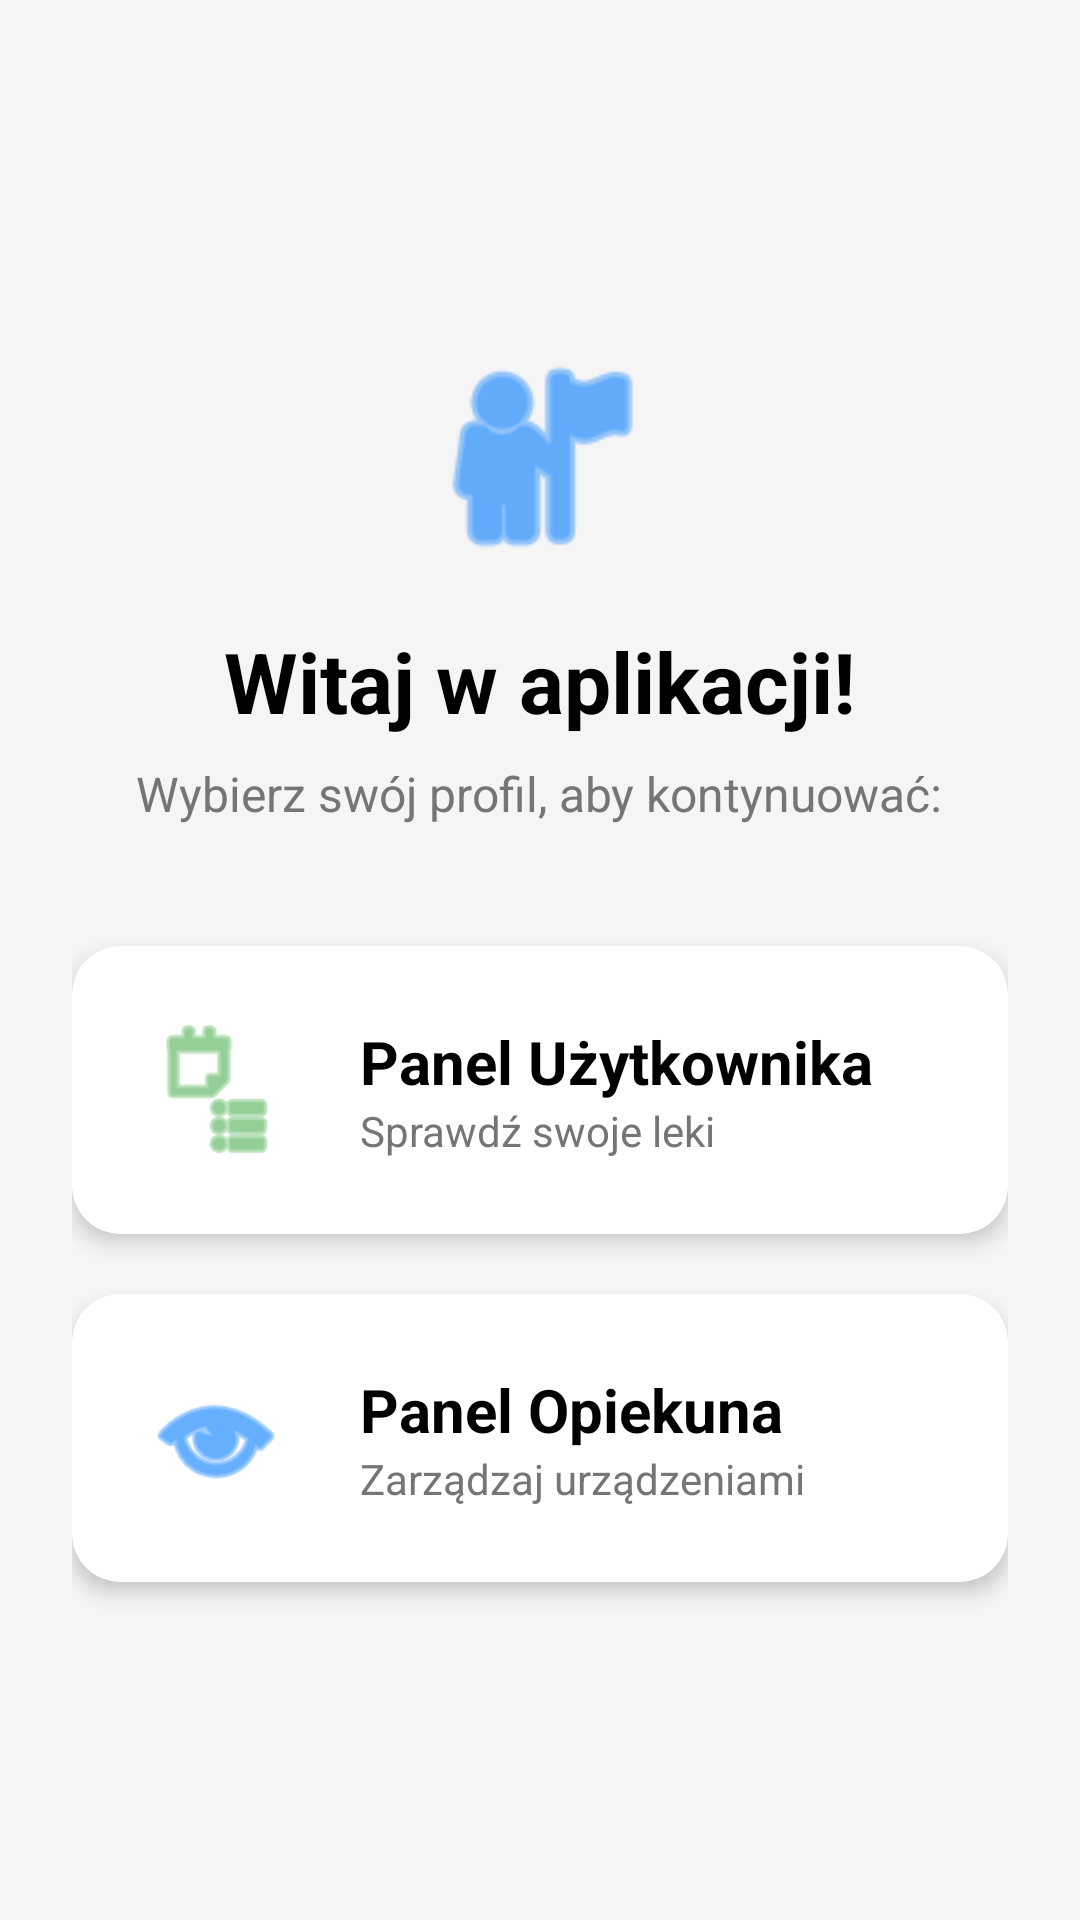

Point at icon controls on the screen. Image size 1080 x 1920, points as point (x, y).
agenda: point (216, 1089)
view: point (216, 1442)
